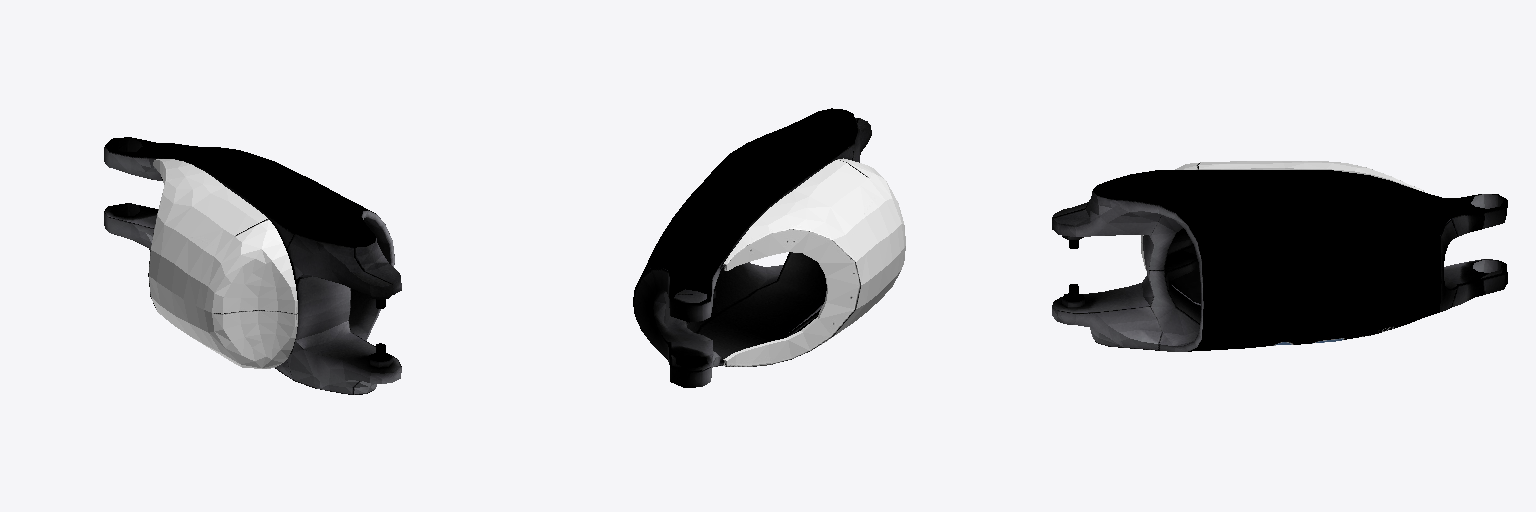
The picture shows the model from 3 angles: view 1: azimuth 30°, elevation 25°; view 2: azimuth 150°, elevation 25°; view 3: azimuth 270°, elevation 25°; orthographic projection.
Visible parts, largest first — view 1: r_uleg; view 2: r_uleg; view 3: r_uleg.
Boxes of the visible parts, <box> form: r_uleg: <box>104,137,401,394</box>; r_uleg: <box>633,108,905,387</box>; r_uleg: <box>1052,161,1507,351</box>.
Bounding box in the file's own units: 0.2108 × 0.1481 × 0.4127.
1 materials, 1 textured.